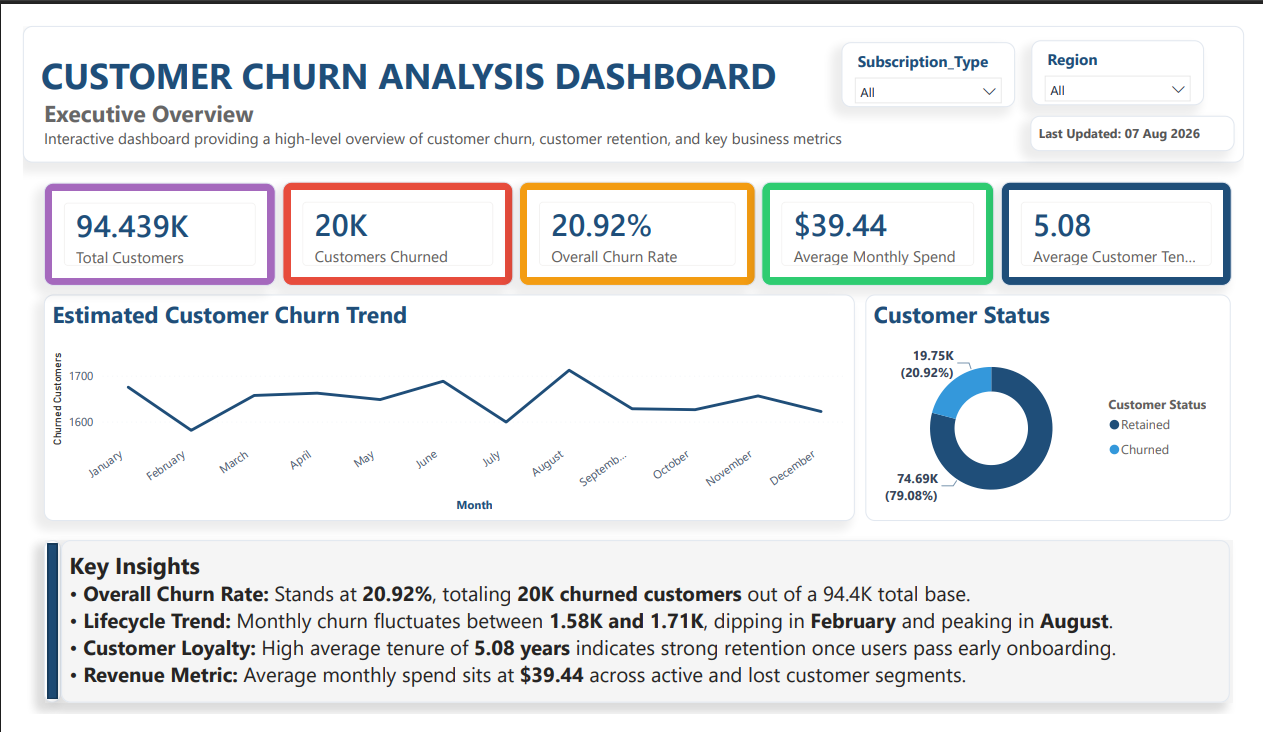

What the dashboard file says about the page in this screenshot:
{"tool":"powerbi","page":{"name":"Overview","canvas":[1280,720],"ordinal":0},"visuals":[{"type":"textbox","box":[0,0,1280,143.3],"z":0},{"type":"slicer","fields":{"Values":["churn_customers_cleaned.Subscription_Type"]},"box":[858.3,16.7,181.4,68],"z":1000},{"type":"slicer","fields":{"Values":["churn_customers_cleaned.Region"]},"box":[1056.7,15,181.4,68],"z":2000},{"type":"textbox","box":[1056.4,93.6,213.7,37.2],"z":3000},{"type":"cardVisual","fields":{"Data":["Sum(churn_customers_cleaned.Churn_Flag)"]},"box":[271.7,163.3,242.5,108.3],"z":4000},{"type":"cardVisual","fields":{"Data":["select"]},"box":[520,163.3,248.3,108.3],"z":5000},{"type":"cardVisual","fields":{"Data":["Avg(churn_customers_cleaned.Monthly_Spend)"]},"box":[774.4,163.1,243.8,108.8],"z":6000},{"type":"cardVisual","fields":{"Data":["select"]},"box":[1025,163.3,241.7,108.3],"z":7000},{"type":"lineChart","title":"Estimated Customer Churn Trend","fields":{"Y":["Sum(churn_customers_cleaned.Churn_Flag)"],"Category":["churn_customers_cleaned.Churn_Date.Variation.Date Hierarchy.Month"]},"box":[21.7,280.8,850,236.7],"z":8000},{"type":"donutChart","title":"Customer Status","fields":{"Category":["churn_customers_cleaned.Customer Status"],"Y":["CountNonNull(churn_customers_cleaned.Customer_ID)"]},"box":[882.5,280.8,383.3,236.7],"z":9000},{"type":"shape","box":[22.5,537.5,1245,170],"z":10000},{"type":"shape","box":[21.7,538.3,18.3,170],"z":11000},{"type":"textbox","box":[40,537.5,1225,170],"z":12000},{"type":"cardVisual","fields":{"Data":["Count(churn_customers_cleaned.Customer_ID)"]},"box":[22,164,242.5,108.3],"z":13000}]}

Visuals, with their boxes in screenshot pixels (x1, y1, x2, y2), scaled from the page's 1280x720 canvas onto the 1263x732 screenshot:
textbox: bbox=[0, 0, 1262, 146]
slicer - churn_customers_cleaned.Subscription_Type: bbox=[847, 17, 1026, 86]
slicer - churn_customers_cleaned.Region: bbox=[1043, 15, 1222, 84]
textbox: bbox=[1042, 95, 1253, 133]
cardVisual - Sum(churn_customers_cleaned.Churn_Flag): bbox=[268, 166, 507, 276]
cardVisual - select: bbox=[513, 166, 758, 276]
cardVisual - Avg(churn_customers_cleaned.Monthly_Spend): bbox=[764, 166, 1005, 276]
cardVisual - select: bbox=[1011, 166, 1250, 276]
"Estimated Customer Churn Trend" lineChart: bbox=[21, 285, 860, 526]
"Customer Status" donutChart: bbox=[871, 285, 1249, 526]
shape: bbox=[22, 546, 1251, 719]
shape: bbox=[21, 547, 39, 720]
textbox: bbox=[39, 546, 1248, 719]
cardVisual - Count(churn_customers_cleaned.Customer_ID): bbox=[22, 167, 261, 277]
